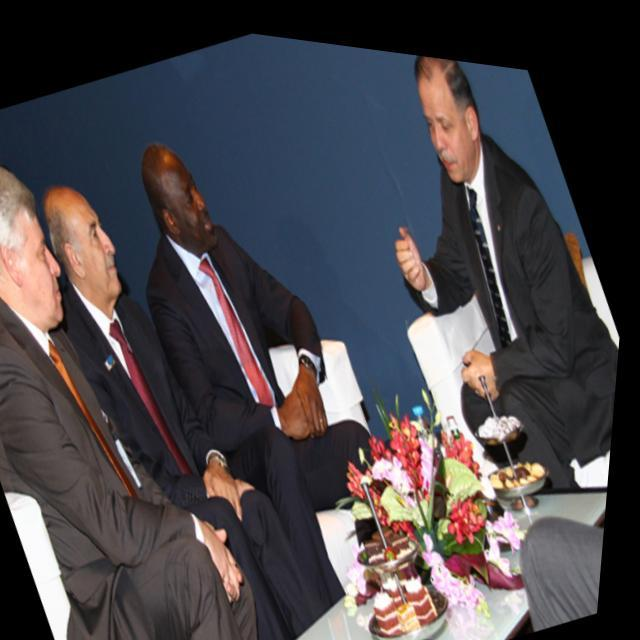Nonhelmet: (38, 168, 132, 316), (406, 52, 492, 185), (134, 129, 216, 259)
